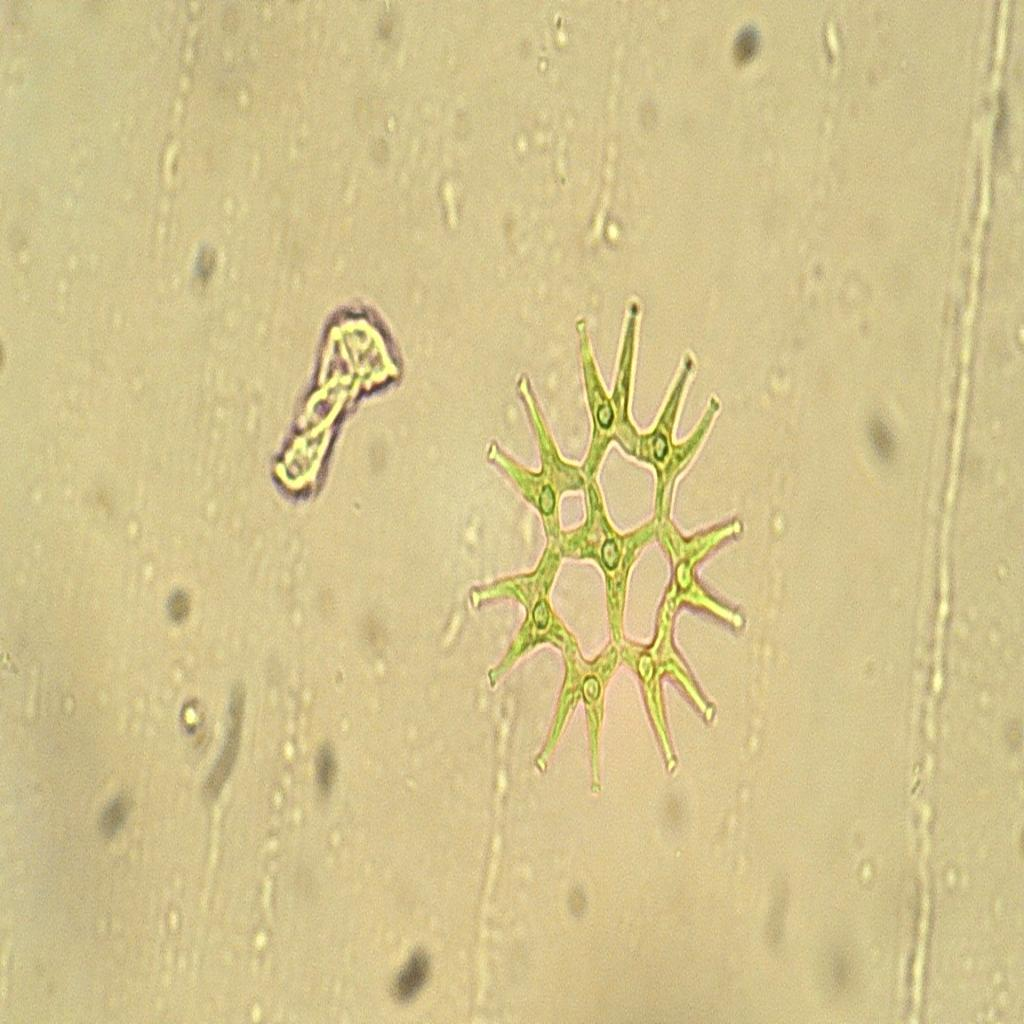Pediastrum_75T: (445, 289, 755, 815)
